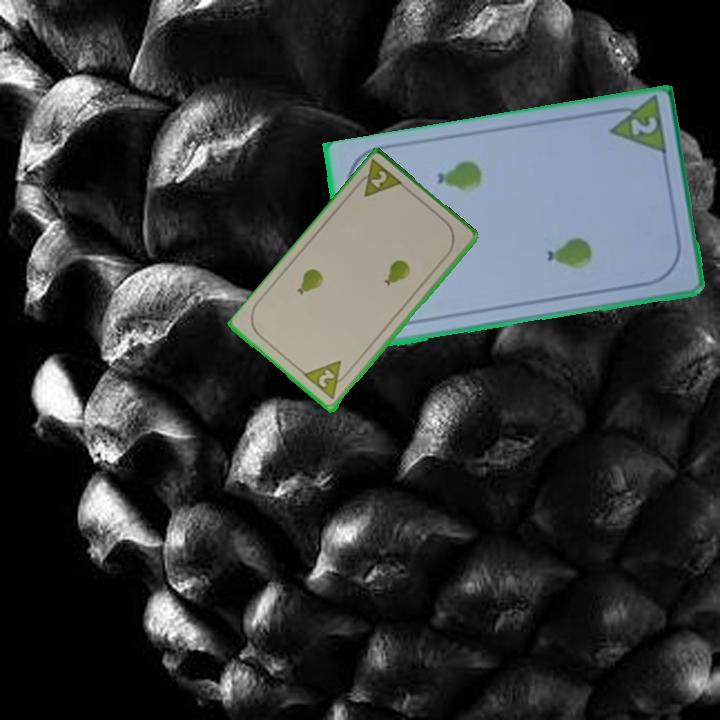2p: (350, 157, 407, 201), (626, 113, 660, 139), (314, 366, 338, 391)
